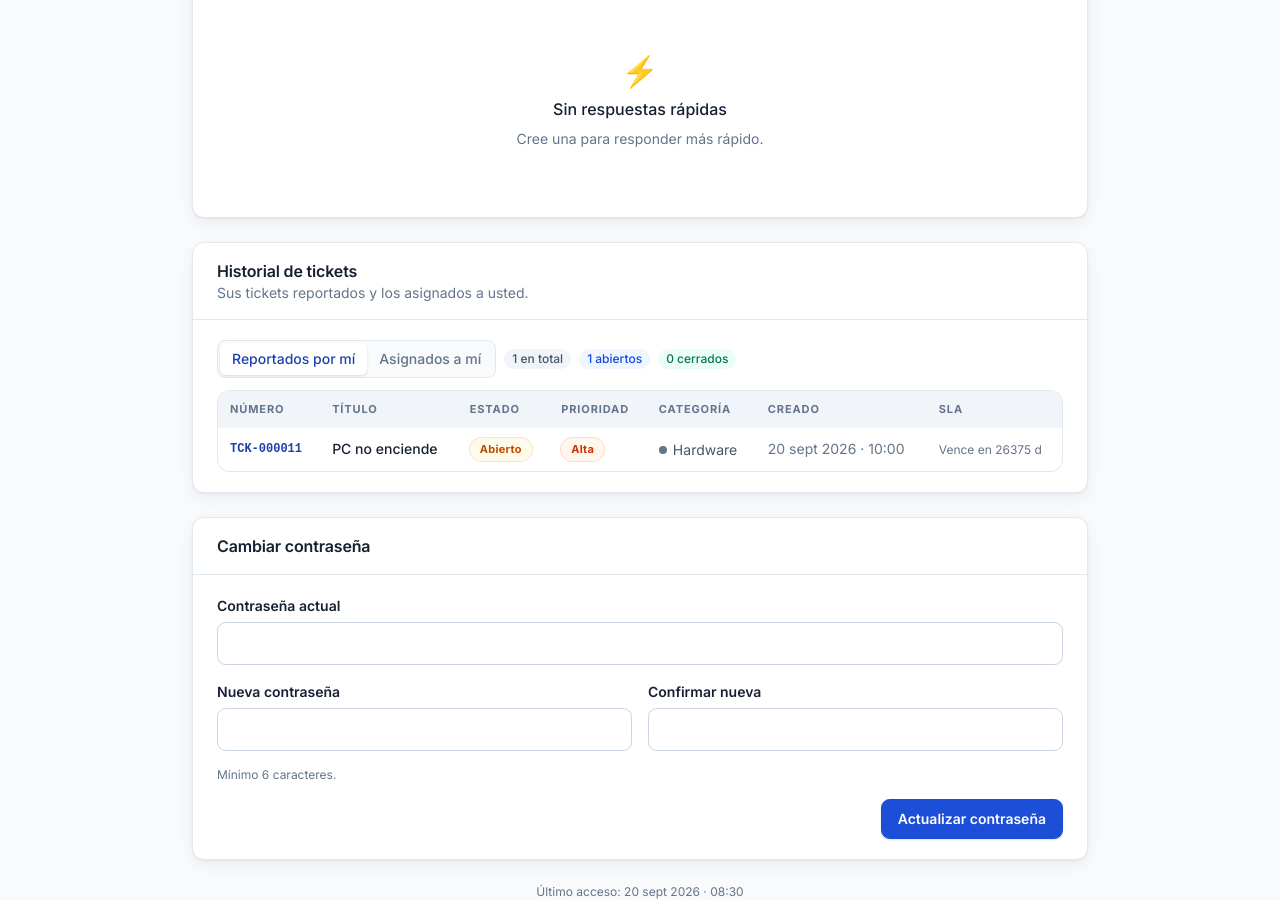
Test case: Profile › exige los tres campos si el formulario está vacío
(page scrolled)
Expected: the heading "Cambiar contraseña" is shown, [217, 536, 370, 556]
Click the button "Actualizar contraseña" at (972, 819), box [881, 799, 1063, 839]
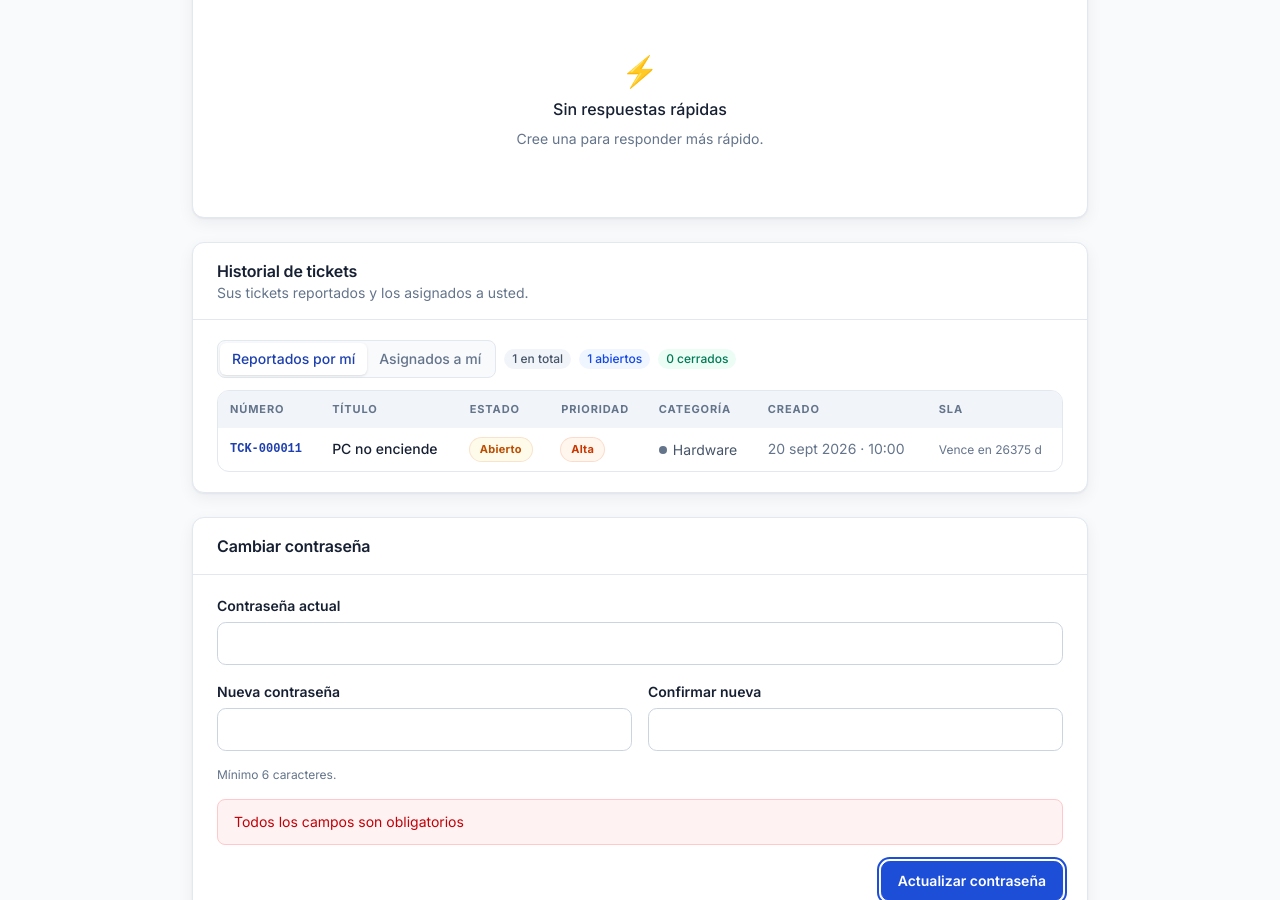
Result: the message "Todos los campos son obligatorios" is shown at [217, 799, 1063, 845]
